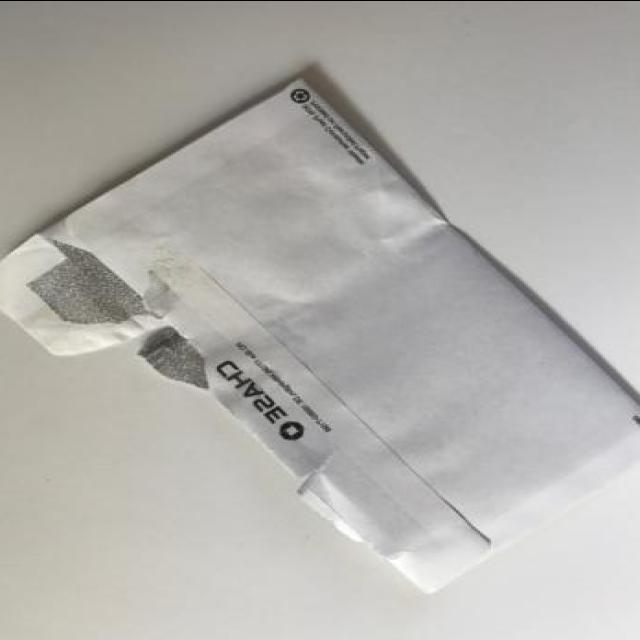kertas: (0, 74, 640, 597)
